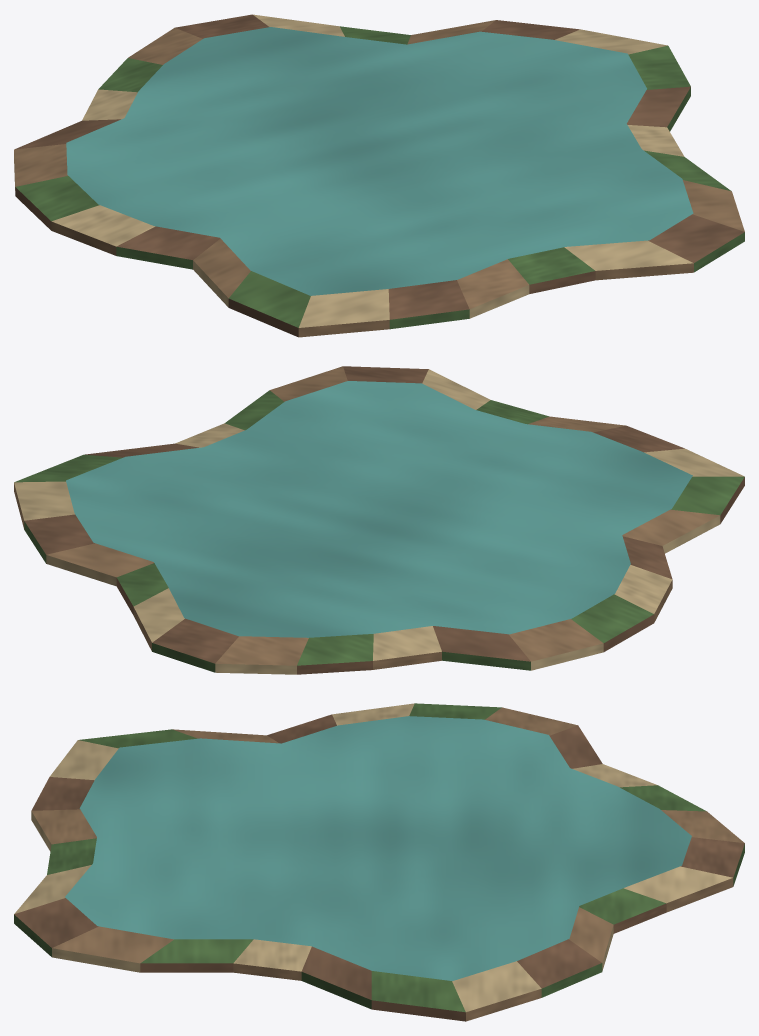
File: pond_M.fbx
3 views of the same model, one above another, from view 1: azimuth 30°, elevation 25°; view 2: azimuth 150°, elevation 25°; view 3: azimuth 270°, elevation 25° (orthographic). The views are drawn at different scales.
Visible parts, largest first — view 1: pond_M; view 2: pond_M; view 3: pond_M.
Part boxes in pixels (bbox=[...]): pond_M: bbox=[14, 14, 744, 337]; pond_M: bbox=[14, 366, 744, 674]; pond_M: bbox=[14, 703, 744, 1021].
Size of the model in its own units: 1800 by 48 by 1800.
Materials: 2 (2 with a texture image).
